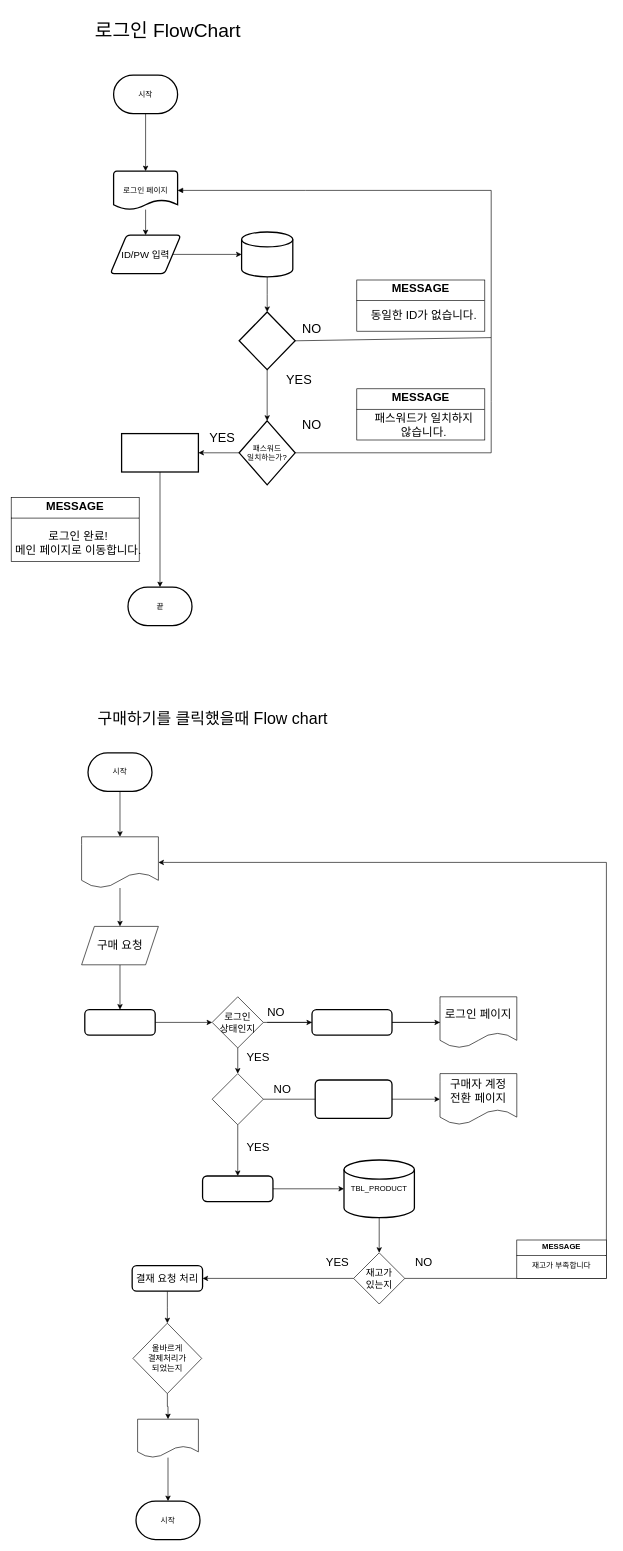
The diagram is 623 pixels wide and 1551 high, and some of its shapes have lost their labels. The shapes that lost their labels are listed below. From the top down, each one's centre as x and y in pixels, then its label:
At [267,254]: "tbl_user".
At [266,340]: "동일 ID가 있는가?".
At [160,452]: "로그인 처리".
At [119,862]: "애완 용품 상새 페이지".
At [120,1022]: "구매 처리".
At [351,1022]: "로그인 페이지로 이동 처리".
At [237,1099]: "구매자 계정인지".
At [353,1099]: "구매자 계정전환 페이지로 이동 처리".
At [237,1188]: "재고 확인 처리".
At [167,1438]: "결제 완료 창".
